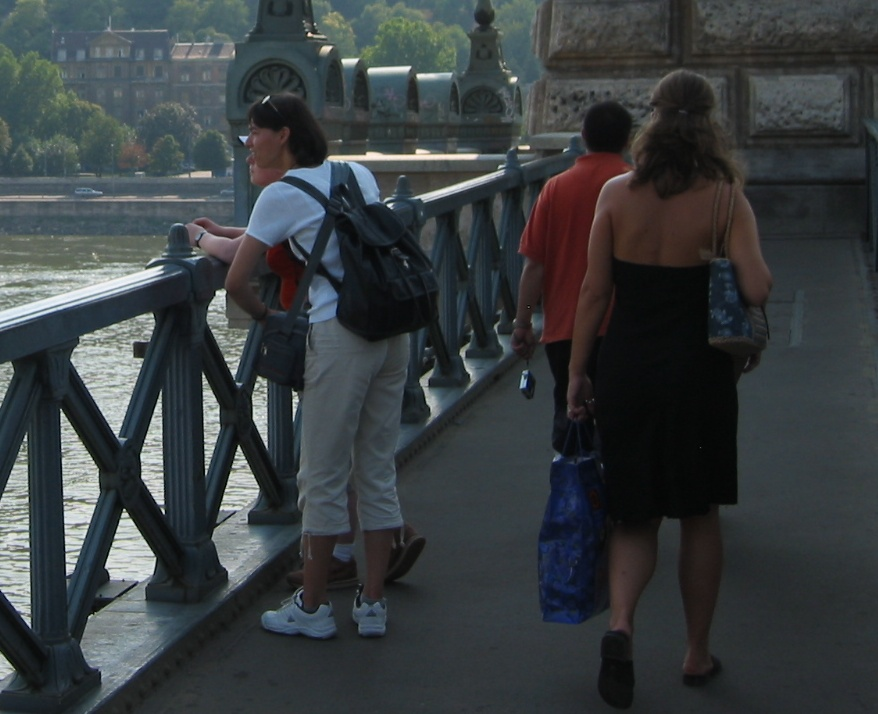person: (572, 64, 774, 704), (225, 93, 416, 638)
